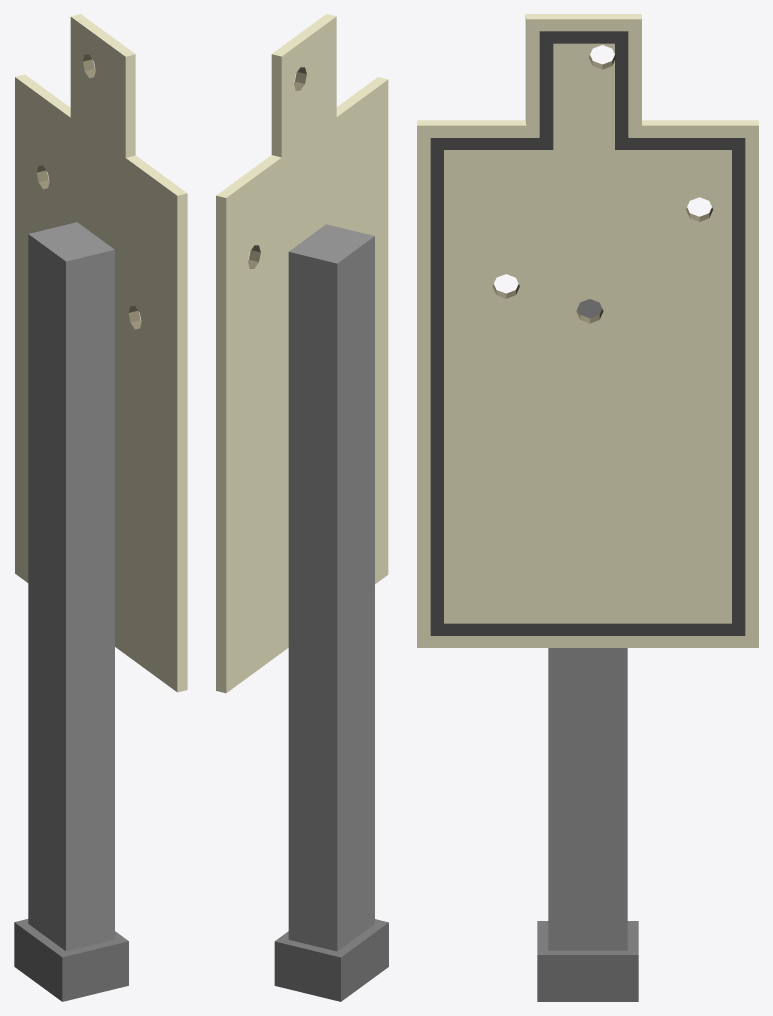
Rendered from target.fbx.
3 renders of one model, left to right at view 1: azimuth 30°, elevation 25°; view 2: azimuth 150°, elevation 25°; view 3: azimuth 270°, elevation 25°, orthographic. The views are drawn at different scales.
Parts seen in each view (by area): view 1: Cube_5; view 2: Cube_5; view 3: Cube_5.
Part boxes in pixels (x1=…): Cube_5: x1=14, y1=14, x2=187, y2=1001; Cube_5: x1=216, y1=14, x2=388, y2=1001; Cube_5: x1=417, y1=14, x2=758, y2=1001.
Size of the model in its own units: 8.59 by 113 by 35.52.
